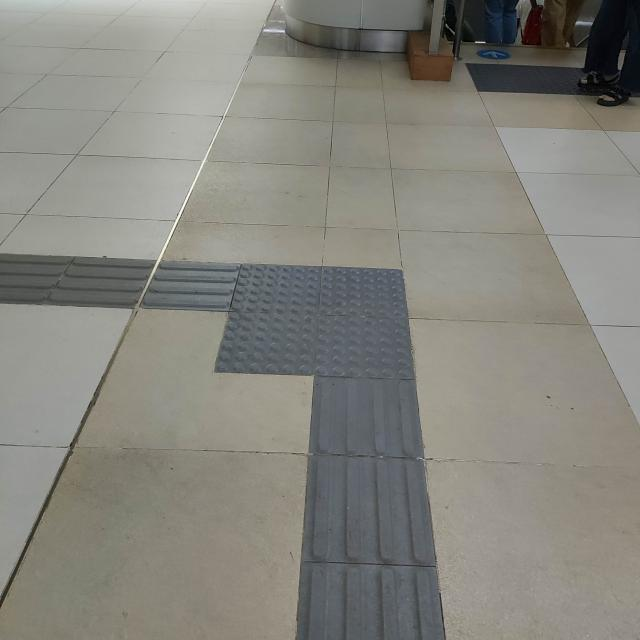kiri: (116, 207, 443, 452)
